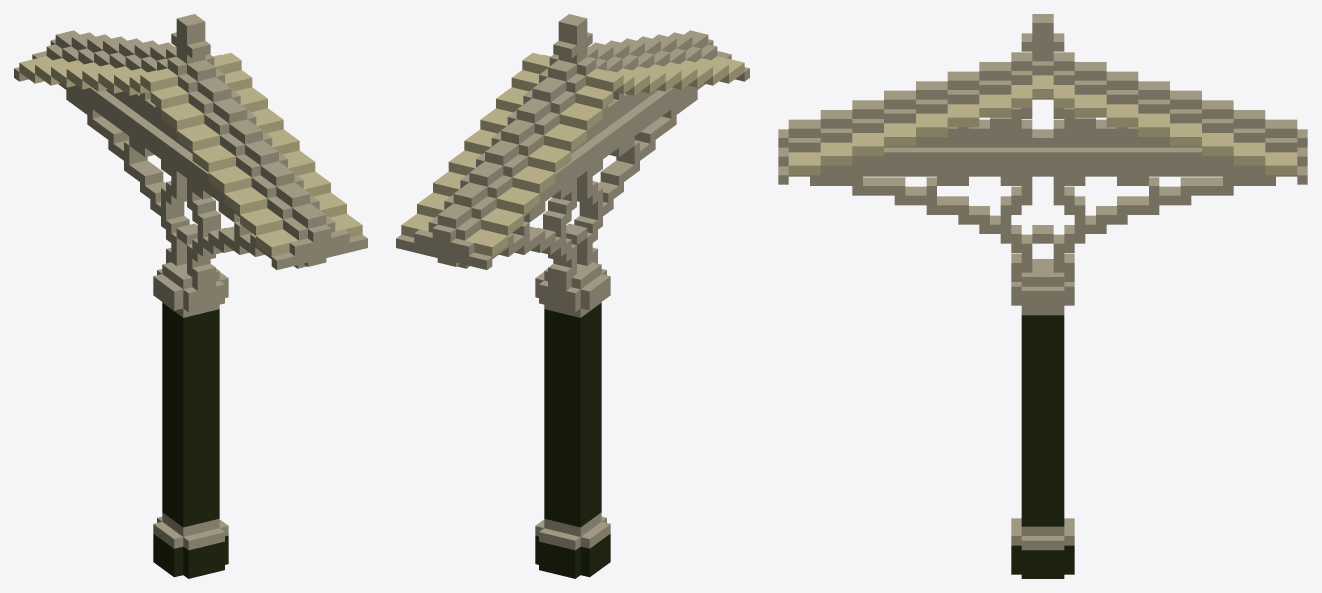
The model's file is railway_roof_01.fbx.
The picture shows the model from 3 angles, left to right: view 1: azimuth 30°, elevation 25°; view 2: azimuth 150°, elevation 25°; view 3: azimuth 270°, elevation 25°; orthographic projection.
Visible parts, largest first — view 1: obj; view 2: obj; view 3: obj.
Part boxes in pixels (x1,y1,x2,y2): obj: [14, 14, 367, 578]; obj: [396, 14, 749, 578]; obj: [778, 14, 1307, 578].
Size of the model in its own units: 1 by 5.7 by 5.
